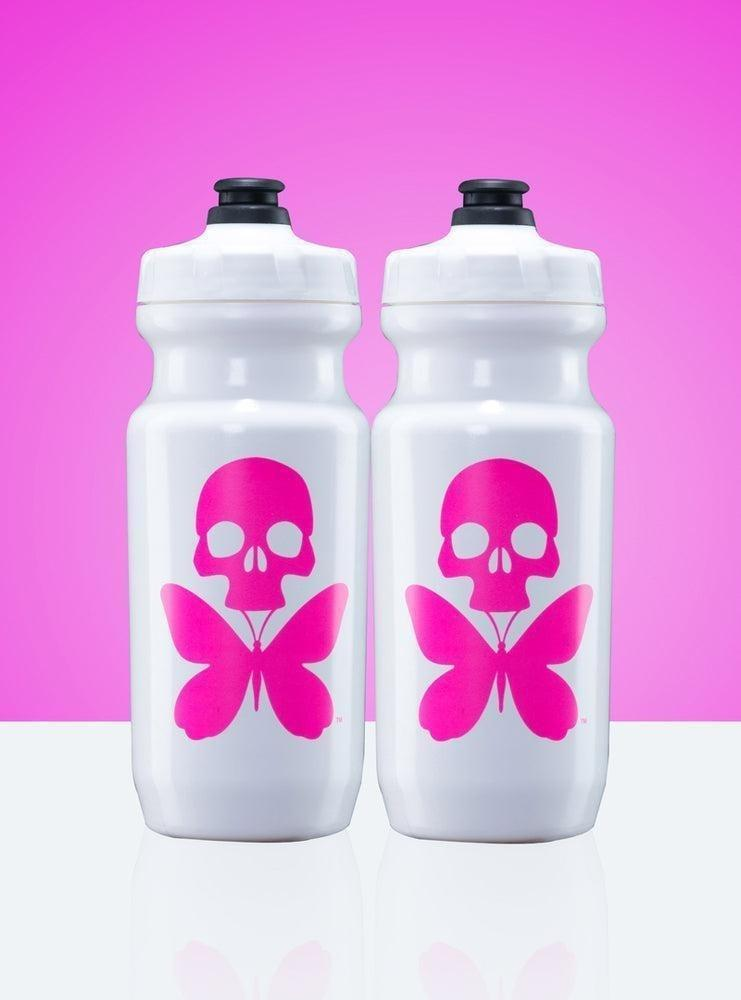gym bottle: (369, 174, 620, 845), (122, 174, 373, 844)
